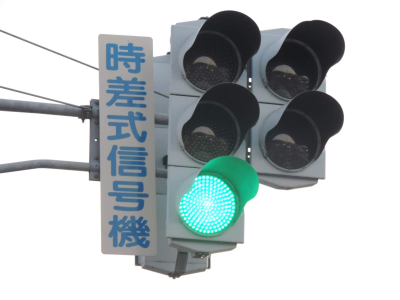trafficlight_green: (174, 18, 248, 240)
